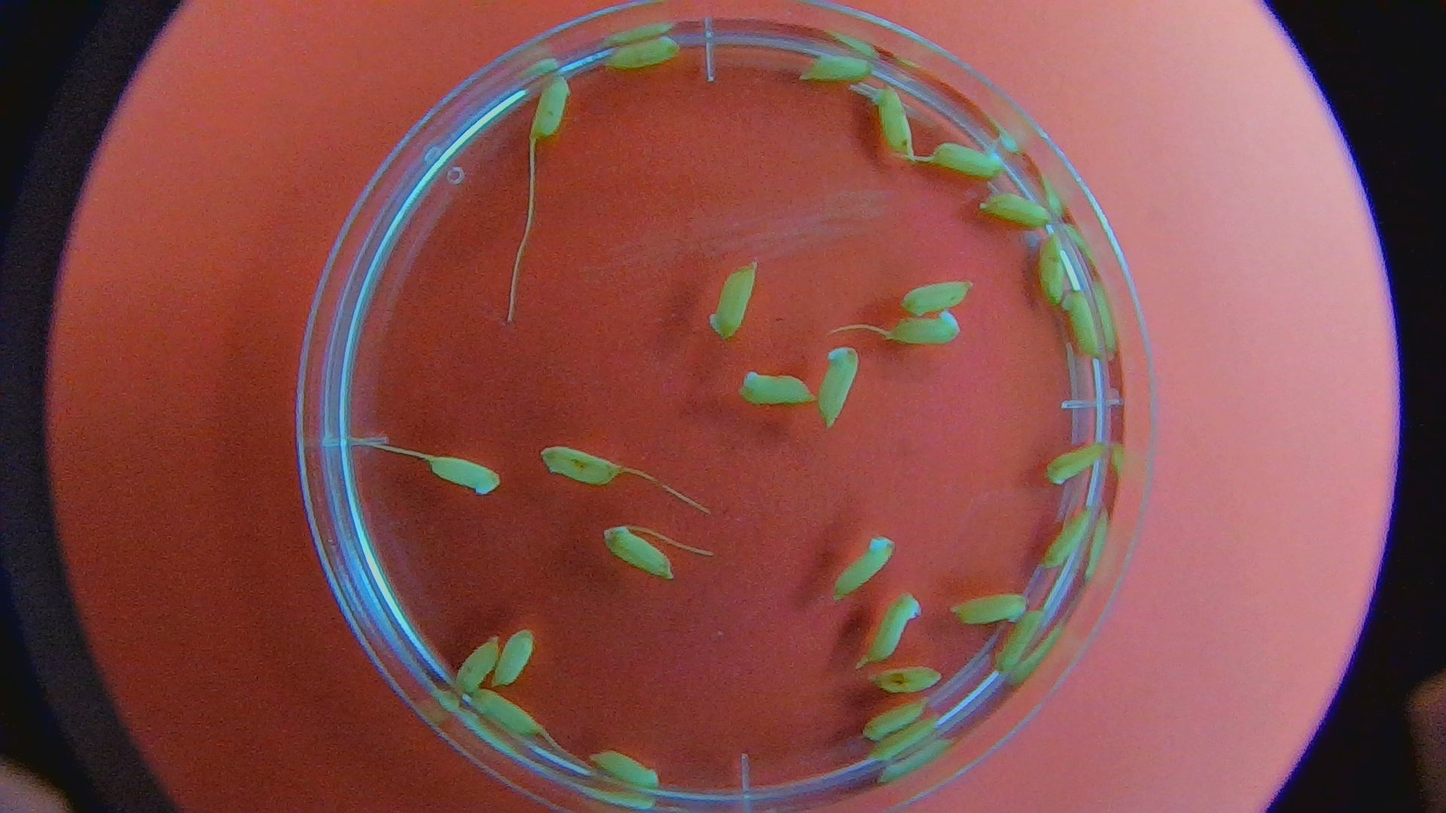no: (831, 533, 901, 595), (862, 591, 922, 663), (706, 260, 758, 340), (871, 81, 919, 164), (813, 345, 862, 426), (474, 684, 545, 739), (536, 443, 621, 488), (584, 747, 665, 794), (601, 525, 674, 577), (1044, 501, 1095, 572), (1040, 440, 1111, 488), (1058, 288, 1104, 361), (885, 309, 966, 349), (994, 609, 1044, 673), (737, 368, 813, 408), (953, 592, 1033, 629), (450, 638, 499, 698), (428, 456, 503, 495), (601, 35, 680, 72), (528, 73, 570, 142), (981, 190, 1053, 230), (898, 281, 974, 317), (872, 723, 932, 765), (868, 695, 926, 738), (493, 629, 535, 685), (1036, 233, 1066, 306), (873, 664, 941, 696), (795, 55, 874, 82)
yes: (932, 142, 999, 184)
